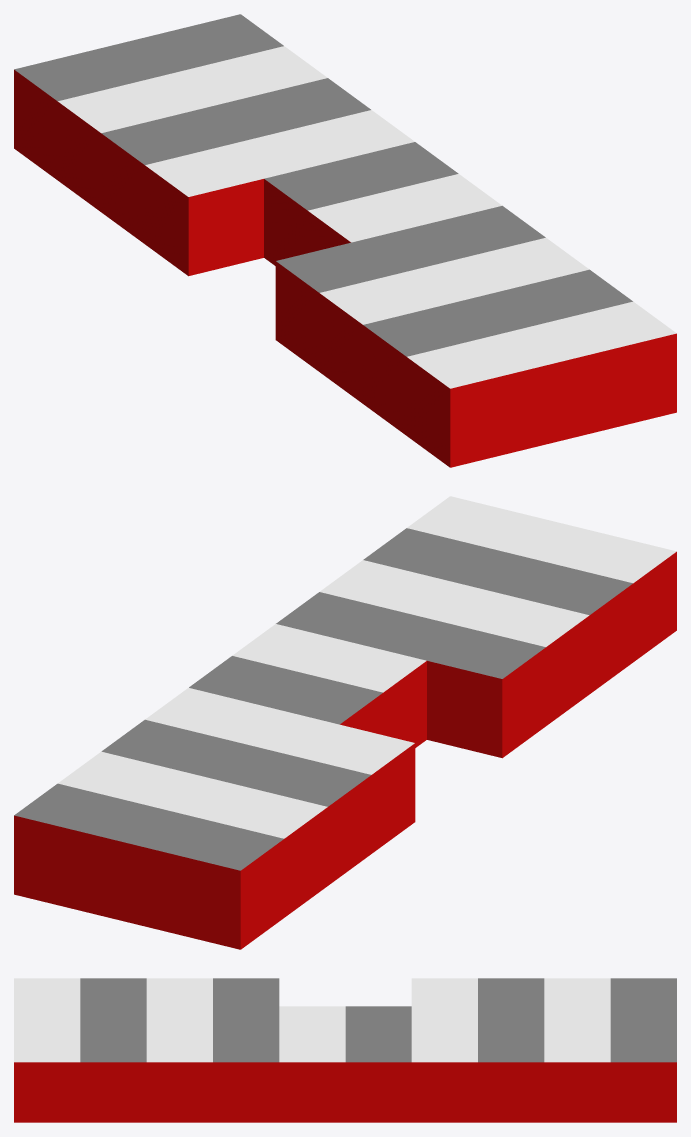
File: Track_Hole_R.fbx
The picture shows the model from 3 angles, top to bottom: view 1: azimuth 30°, elevation 25°; view 2: azimuth 150°, elevation 25°; view 3: azimuth 270°, elevation 25°; orthographic projection. The views are drawn at different scales.
Visible parts, largest first — view 1: Track_Hole_R; view 2: Track_Hole_R; view 3: Track_Hole_R.
Boxes of the visible parts, box(x1,y1,x2,y2) form: Track_Hole_R: box(14, 14, 676, 467); Track_Hole_R: box(14, 496, 676, 949); Track_Hole_R: box(14, 978, 676, 1122).
Size of the model in its own units: 900 by 300 by 3000.
